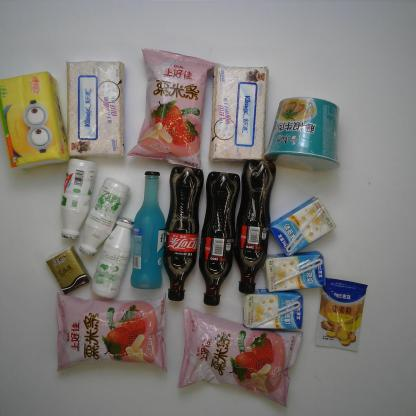Alcohol: (128, 167, 169, 294)
Drink: (165, 167, 205, 298), (234, 157, 272, 291), (202, 171, 232, 309)
Instant Noodles: (265, 96, 344, 174)
Milk: (76, 174, 128, 256), (95, 216, 139, 307), (271, 196, 335, 254), (54, 161, 93, 238), (239, 292, 301, 336), (265, 256, 323, 295)
Puffed Food: (179, 305, 302, 408), (53, 288, 171, 380), (134, 48, 218, 170)
Seasoner: (311, 276, 380, 357)
Tissue: (0, 72, 71, 174), (62, 60, 130, 164), (209, 67, 269, 162), (46, 249, 91, 293)
